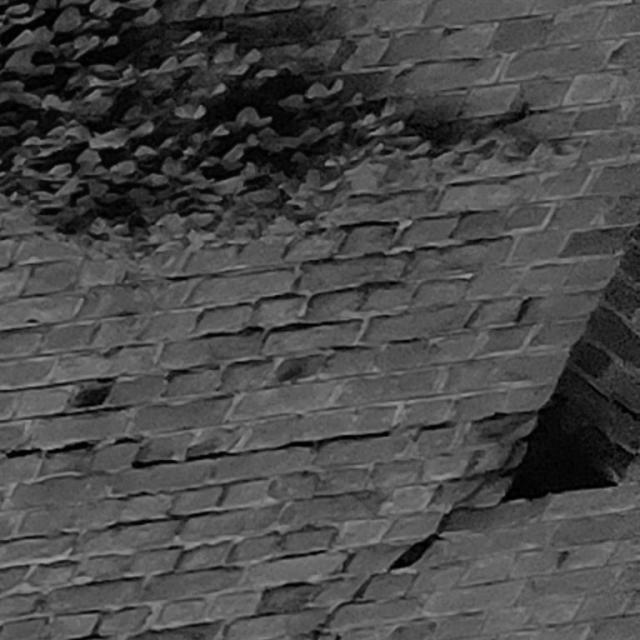crack: (312, 431, 534, 640), (1, 410, 534, 469)
